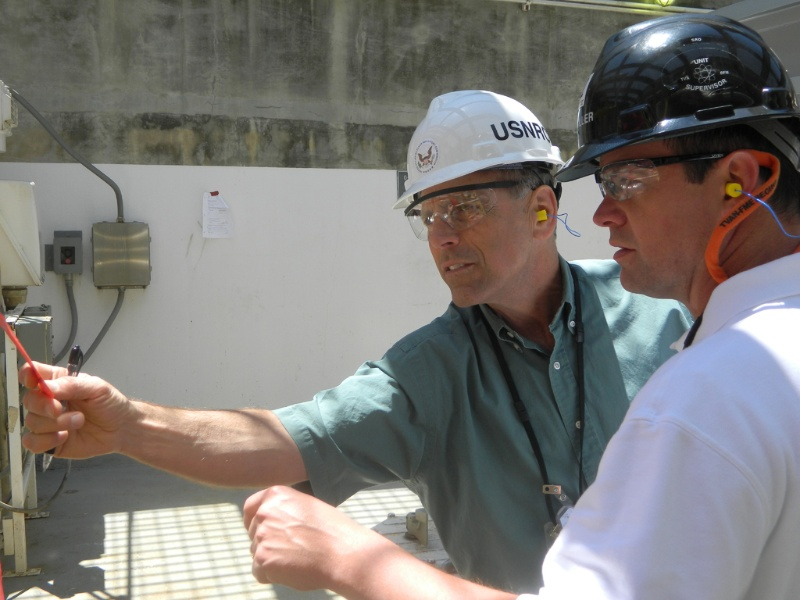Baret: (557, 12, 800, 172), (396, 88, 567, 186)
Gozluk: (594, 151, 744, 201), (406, 178, 530, 229)
